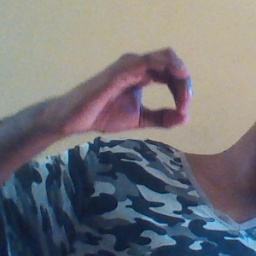O: (67, 40, 199, 140)
